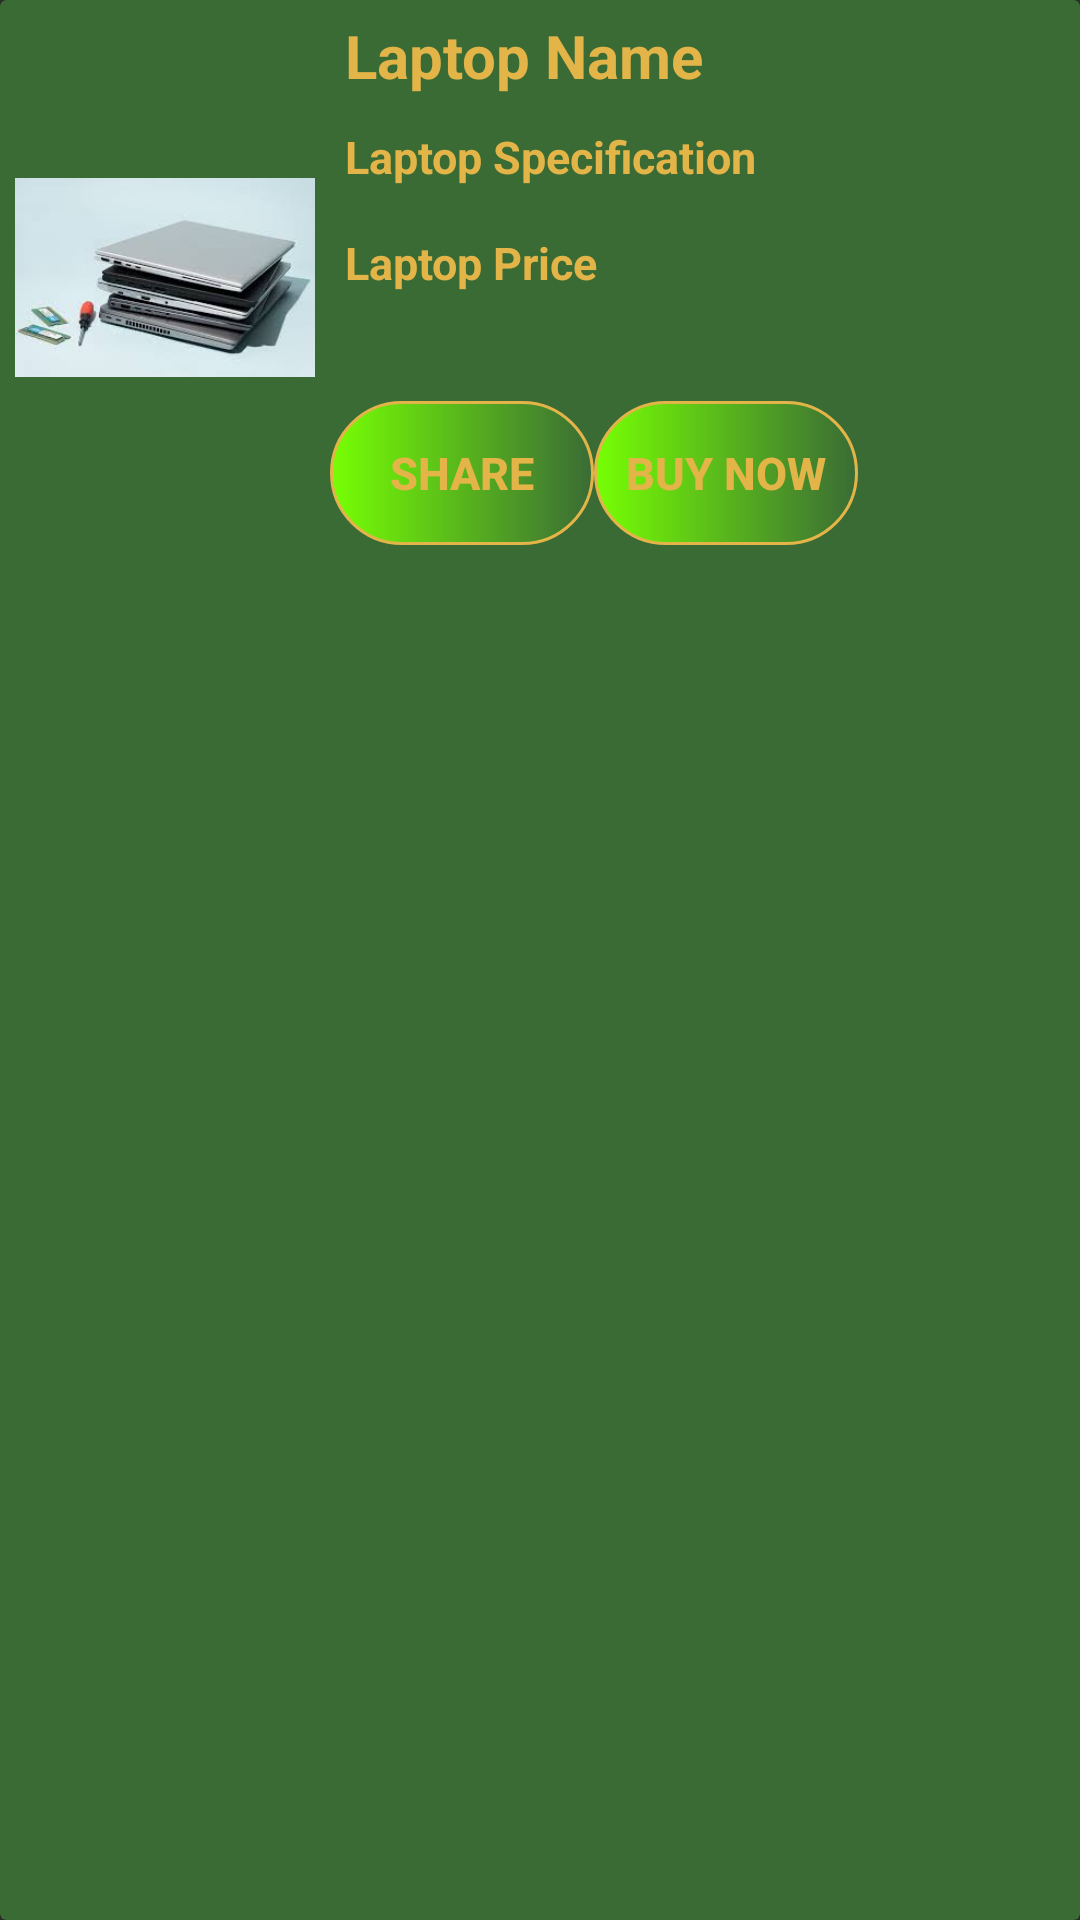

Where icons sit on this 1080px x 1920px app screen, as box(x1, y1, x2, y2):
images: box(15, 178, 315, 377)
